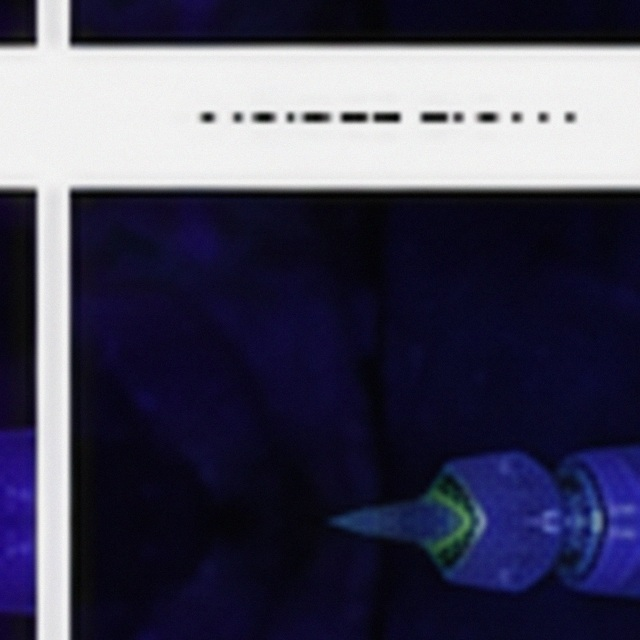hydraulic_oil_leak: (427, 491, 475, 552)
